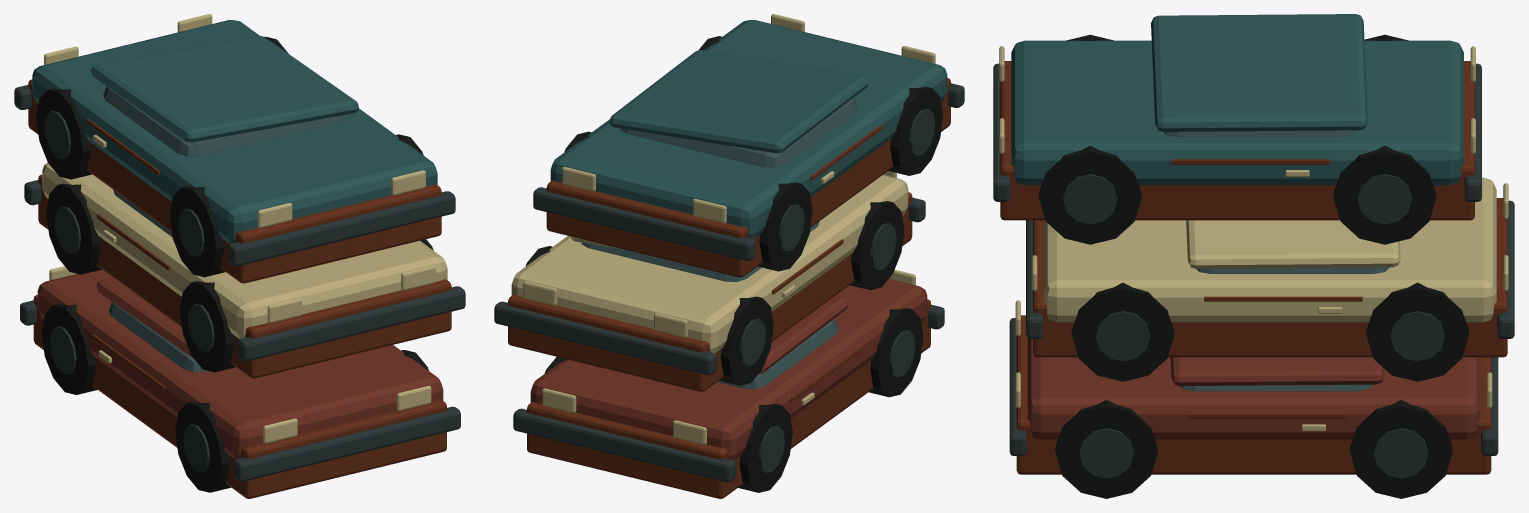
Rendered from wreck_stack.glb.
3 renders of one model, left to right at view 1: azimuth 30°, elevation 25°; view 2: azimuth 150°, elevation 25°; view 3: azimuth 270°, elevation 25°, orthographic. The views are drawn at different scales.
Parts seen in each view (by area): view 1: wreck_stack; view 2: wreck_stack; view 3: wreck_stack.
Boxes of the visible parts, x1,y1,x2,y2 form: wreck_stack: (14,14,465,498); wreck_stack: (494,14,964,498); wreck_stack: (993,14,1514,498).
Size of the model in its own units: 2.9 by 3.78 by 4.78.
